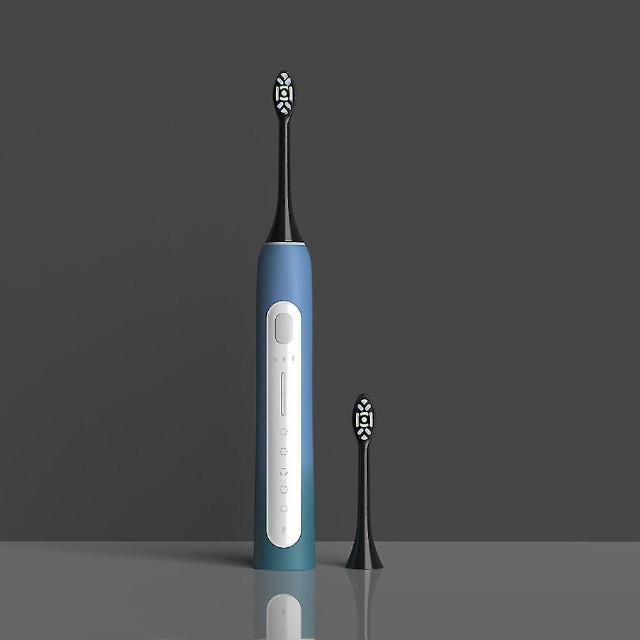toothbrush: (214, 21, 350, 593)
